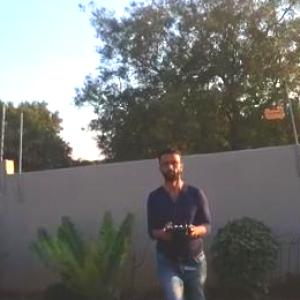follow: (141, 129, 217, 299)
